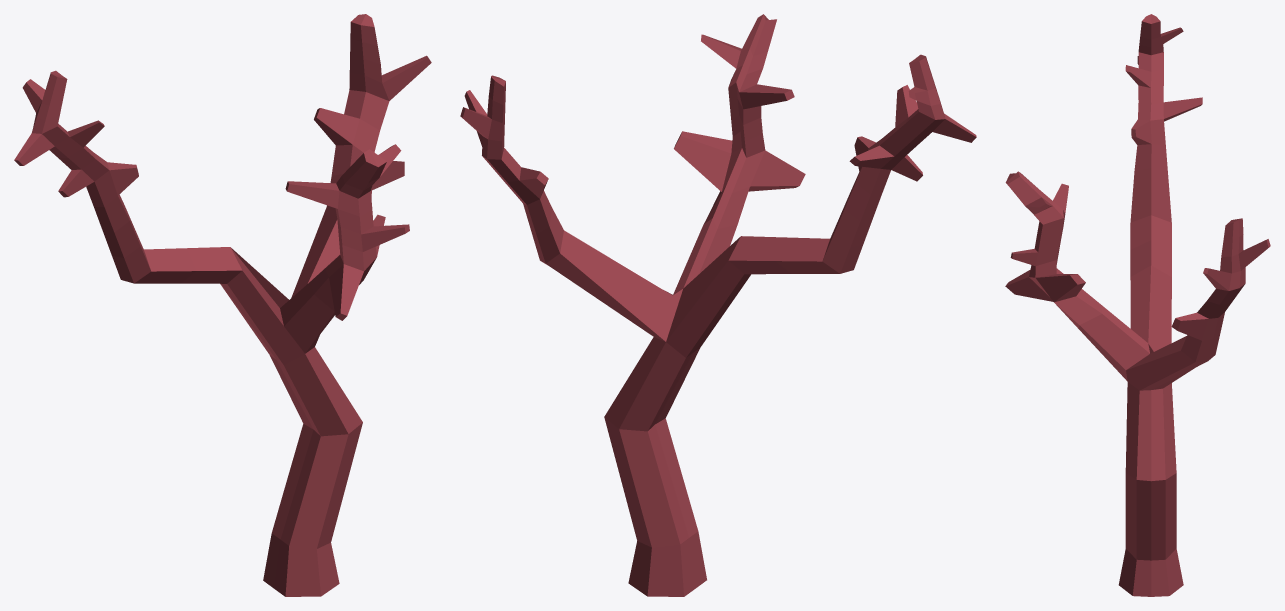
Rendered from Coral2.fbx.
3 renders of one model, left to right at view 1: azimuth 30°, elevation 25°; view 2: azimuth 150°, elevation 25°; view 3: azimuth 270°, elevation 25°, orthographic. The views are drawn at different scales.
Parts seen in each view (by area): view 1: Cube; view 2: Cube; view 3: Cube.
Part boxes in pixels (left/top/right/bottom): Cube: left=14, top=14, right=431, bottom=596; Cube: left=460, top=14, right=976, bottom=596; Cube: left=1005, top=14, right=1270, bottom=596.
Bounding box in the file's own units: 758 × 903 × 462.
